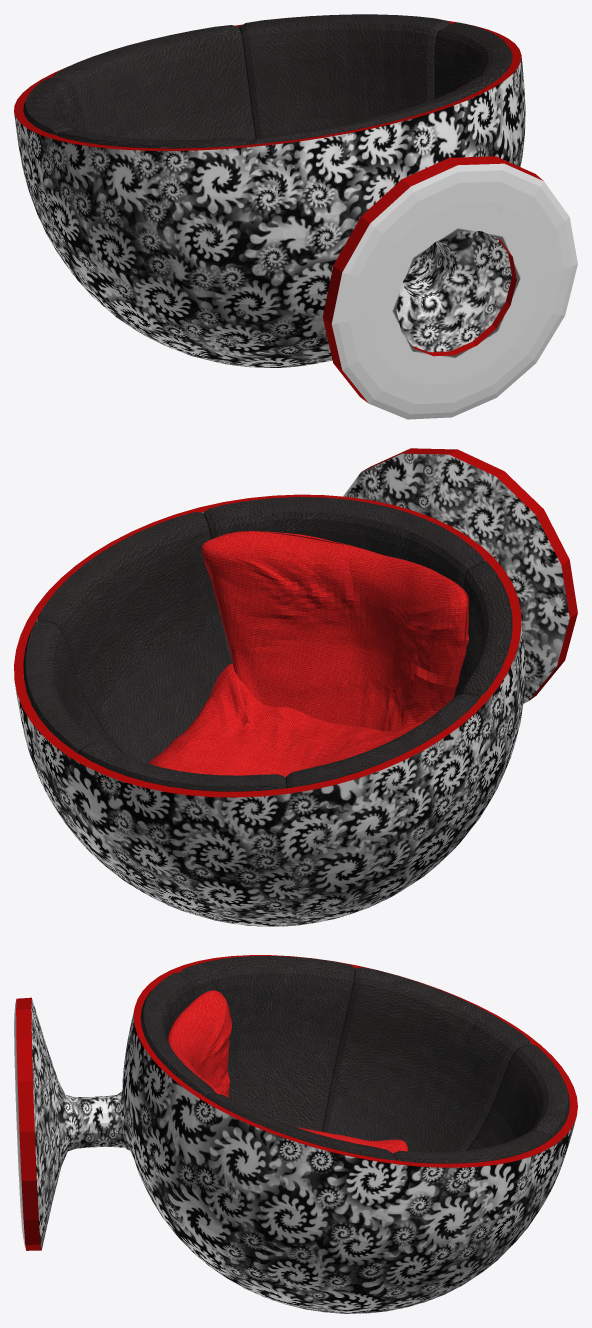
File: arm2.obj
3 views of the same model, one above another, from view 1: azimuth 30°, elevation 25°; view 2: azimuth 150°, elevation 25°; view 3: azimuth 270°, elevation 25° (orthographic). The views are drawn at different scales.
Visible parts, largest first — view 1: shell, padding, shell_trim; view 2: shell, padding, pillow_bottom, pillow_top, shell_trim; view 3: shell, padding, shell_trim, pillow_bottom, pillow_top.
Part boxes in pixels (x1,y1,x2,y2): shell: (14,55,577,419); padding: (23,14,512,148); shell_trim: (14,20,543,403); shell: (14,453,569,926); padding: (23,497,512,791); pillow_bottom: (201,531,468,731); pillow_top: (148,664,424,777); shell_trim: (14,448,577,797); shell: (14,999,576,1313); padding: (140,956,569,1163); shell_trim: (16,955,577,1250); pillow_bottom: (167,990,231,1097); pillow_top: (296,1127,408,1153).
Size of the model in its own units: 24.24 by 16.63 by 30.02.
Materials: 4 (4 with a texture image).
